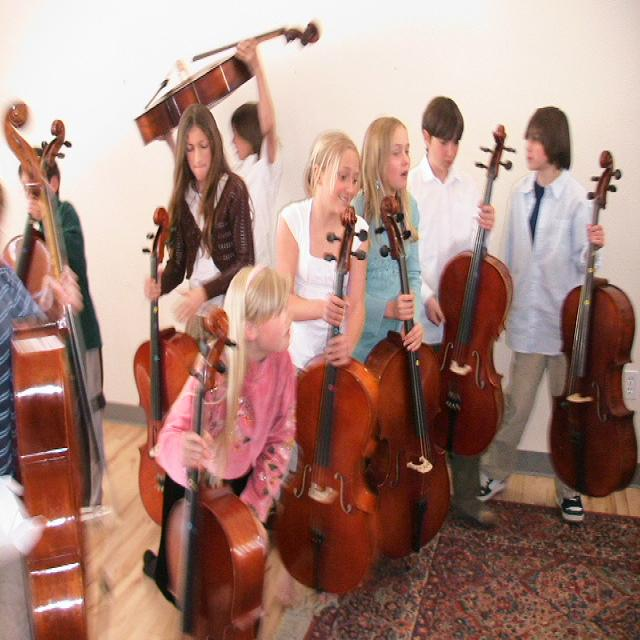cello: (0, 104, 112, 638), (266, 204, 382, 598), (164, 306, 270, 639), (359, 196, 454, 567), (545, 145, 640, 503), (128, 4, 324, 149), (430, 122, 513, 456), (133, 206, 208, 531), (3, 118, 73, 301)
